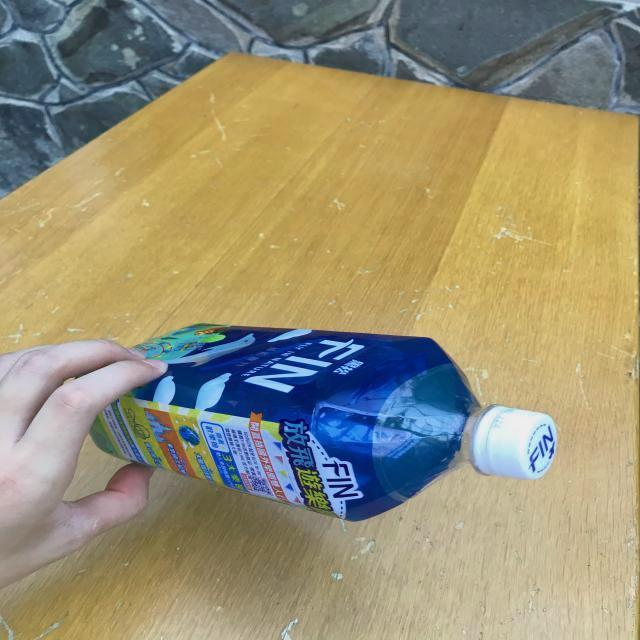bottle: (74, 322, 558, 521)
